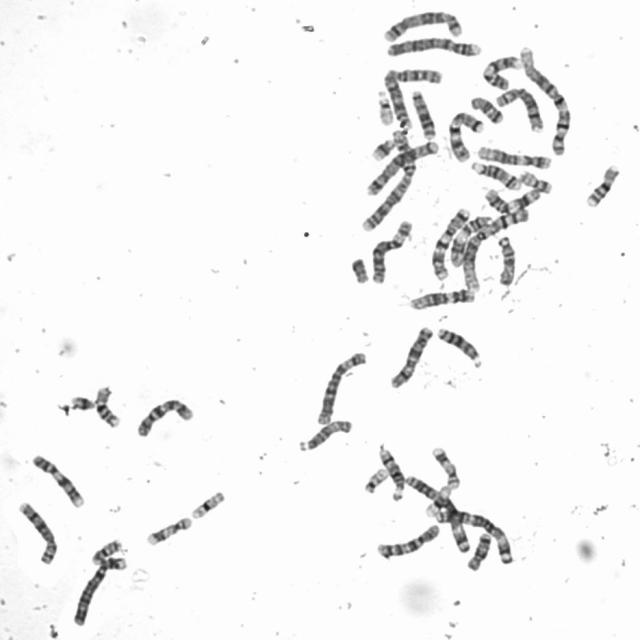A1: (516, 41, 574, 158), (460, 207, 532, 293)
A2: (357, 128, 423, 235), (380, 66, 442, 139)
A3: (401, 472, 474, 555), (436, 507, 515, 566)
B4: (70, 554, 129, 628), (383, 35, 484, 58)
B5: (363, 137, 440, 197), (381, 8, 464, 43)
C10: (374, 520, 442, 560), (133, 395, 194, 439)
C11: (445, 212, 495, 268), (480, 184, 543, 216)
C12: (474, 142, 552, 170), (407, 286, 476, 312)
C6: (314, 348, 369, 427), (368, 217, 415, 285)
C7: (428, 204, 472, 282), (445, 108, 486, 164)
C8: (15, 499, 59, 566), (493, 83, 547, 134)
C9: (29, 451, 86, 509), (479, 52, 523, 91)
D13: (434, 324, 484, 370), (408, 87, 438, 140)
D14: (467, 158, 521, 192), (376, 443, 406, 502)
D15: (296, 416, 354, 454), (495, 234, 517, 286)
E16: (582, 161, 623, 209), (91, 382, 123, 430)
E17: (143, 513, 195, 548), (429, 443, 462, 491)
E18: (464, 530, 494, 572), (468, 93, 505, 126)
F19: (188, 488, 227, 520), (422, 484, 452, 520)
F20: (88, 536, 125, 566), (515, 167, 553, 195)
G21: (369, 134, 398, 162), (67, 392, 96, 411)
G22: (361, 464, 391, 495), (374, 87, 395, 126)
X: (386, 323, 435, 391)
Y: (348, 255, 369, 284)
